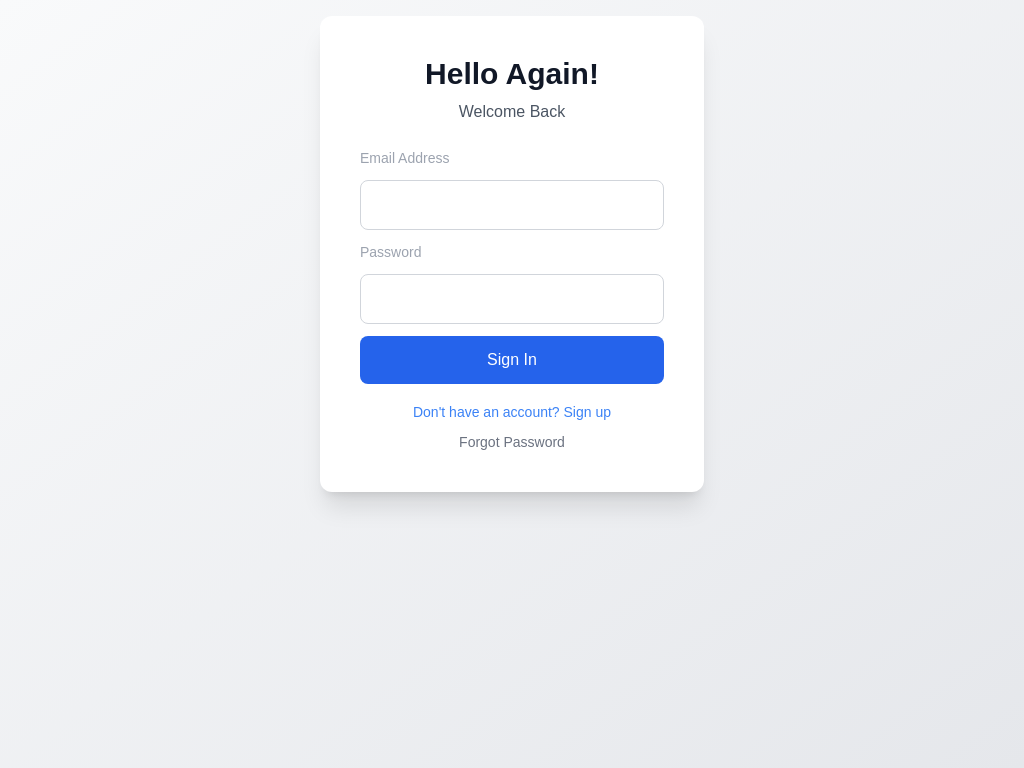
Scenario: Shows error message for invalid email format
This screenshot has width=1024, height=768.
In the field labelled "Email Address": x=512, y=205 left=360, top=180, right=664, bottom=230, type "invalid-email"
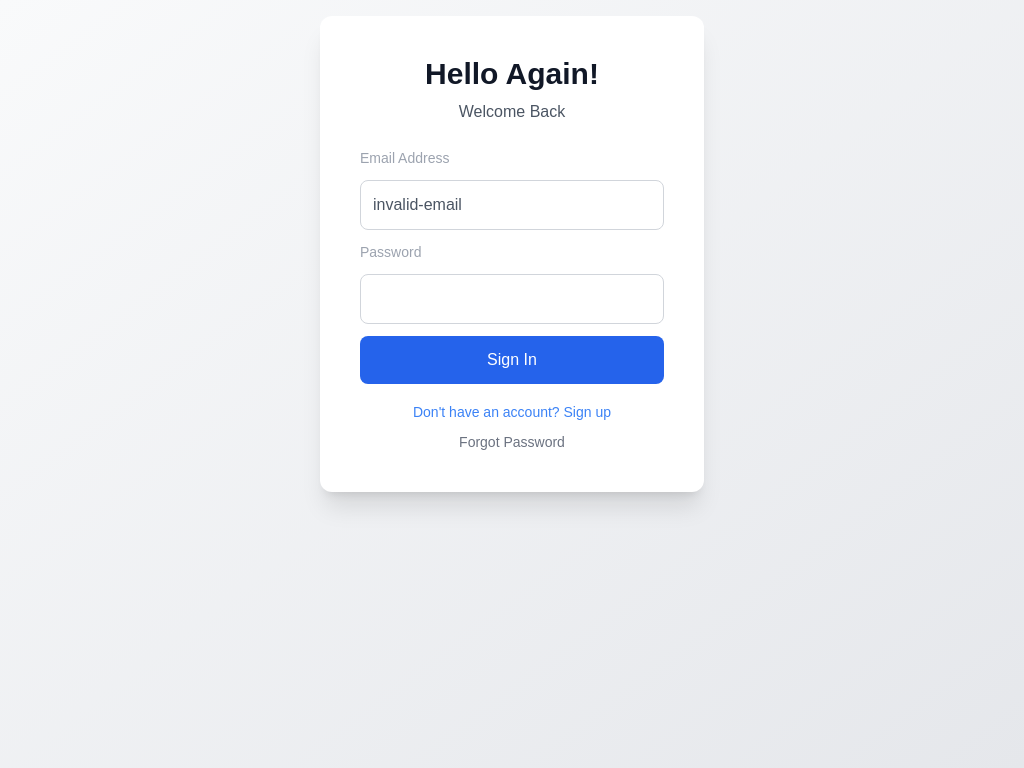
In the password field labelled "Password": x=512, y=299 left=360, top=274, right=664, bottom=324, type "password123"
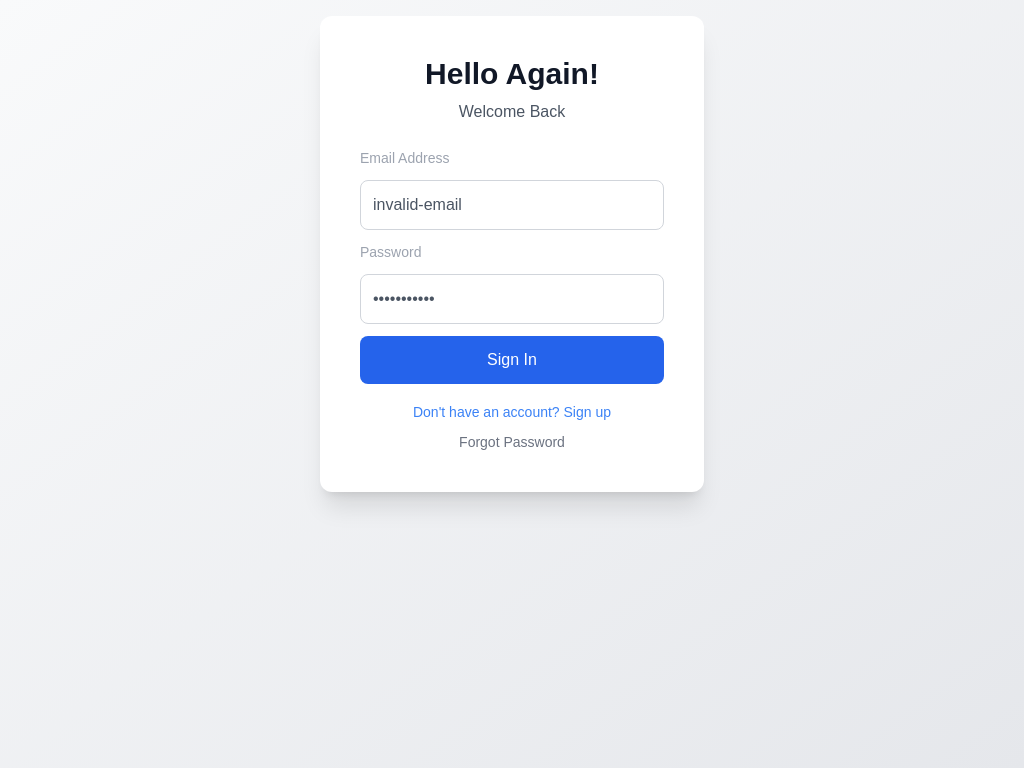
Click the button "Sign In": x=512, y=360 left=360, top=336, right=664, bottom=384
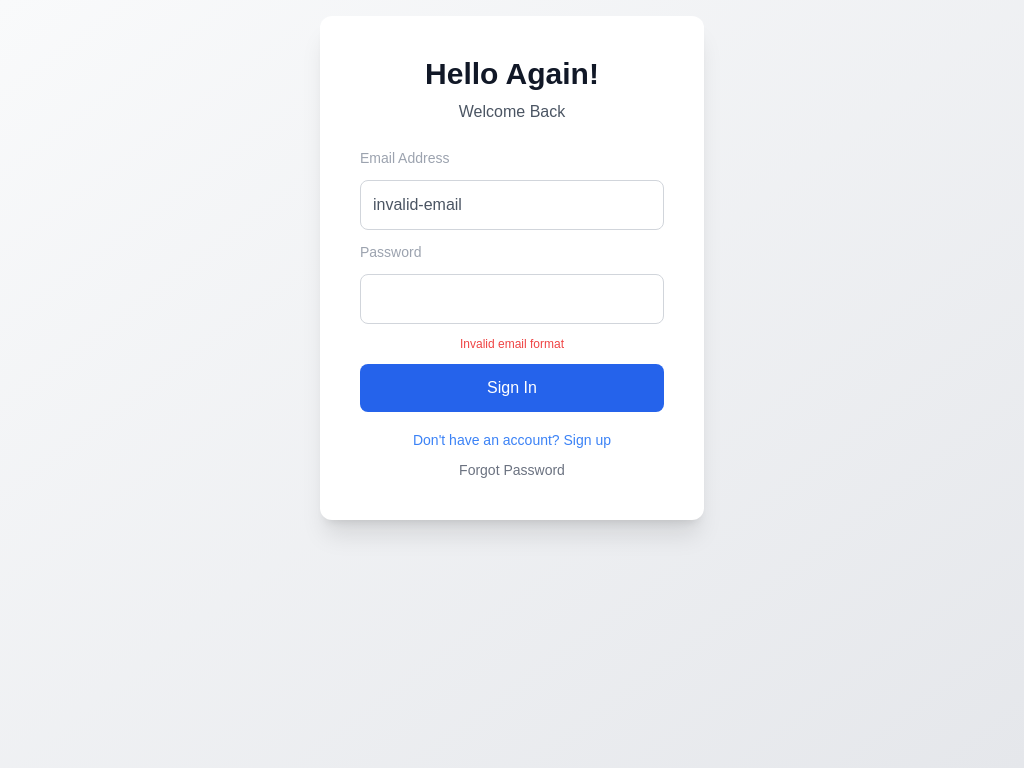
Expected: the text "Invalid email format" is shown, left=460, top=337, right=564, bottom=351
